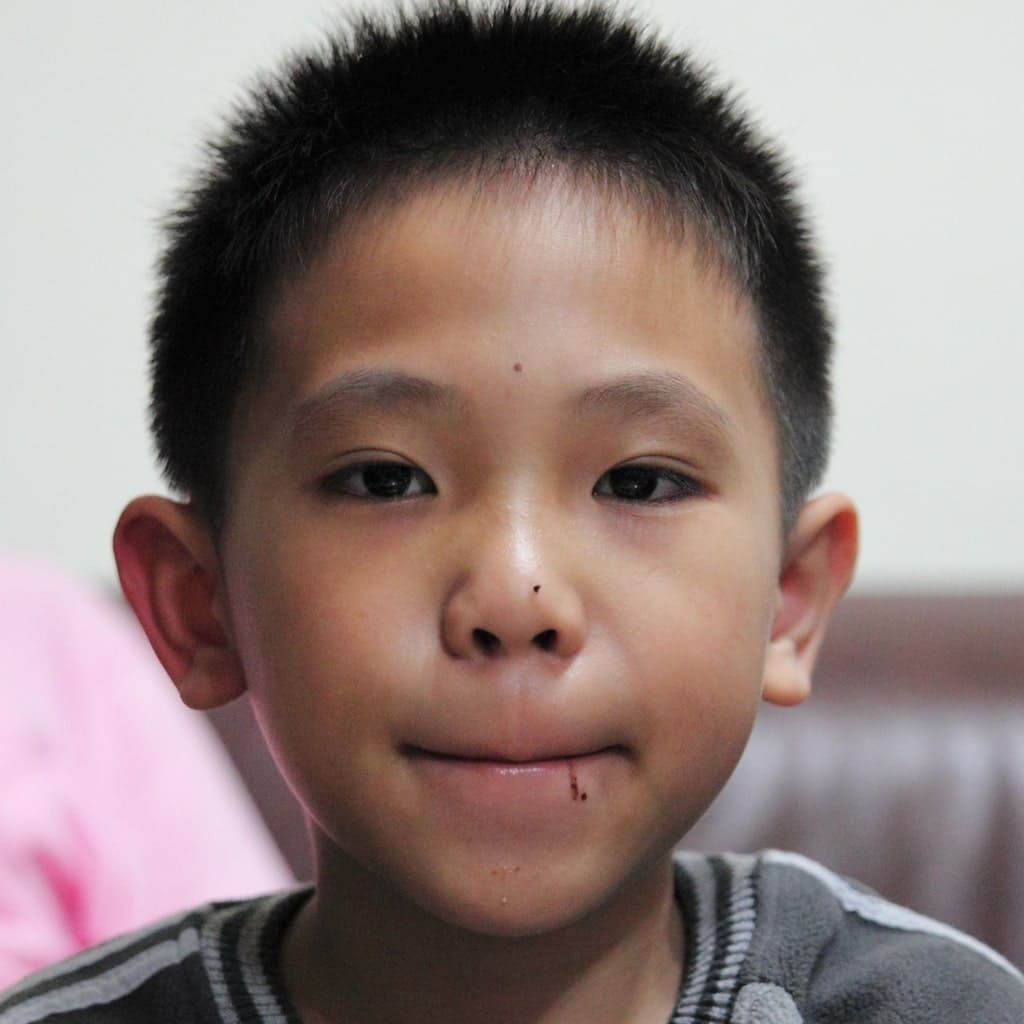without_mask: (244, 225, 764, 878)
